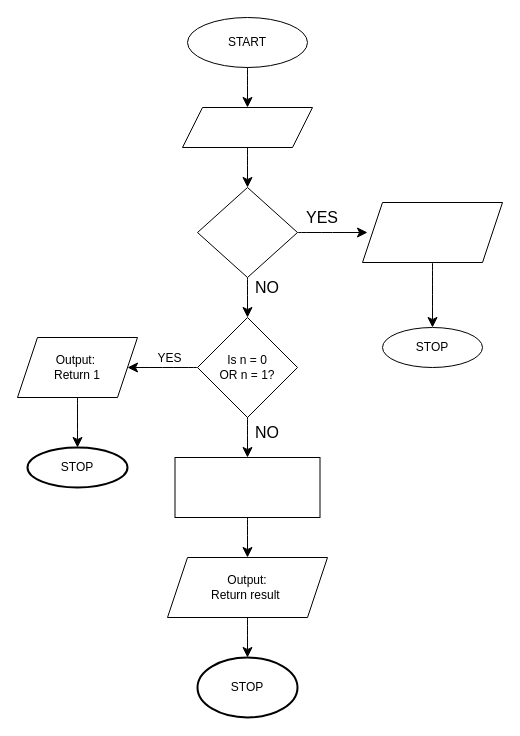
This 520x736 diagram has some shape labels left out. Each missing label, with the box of its shape:
Is n = 0?: (196, 186, 298, 278)
Output: "Invalid input": (362, 202, 502, 262)
Process: result = n * fact(n-1): (174, 456, 320, 518)
Read n: (182, 106, 312, 148)
